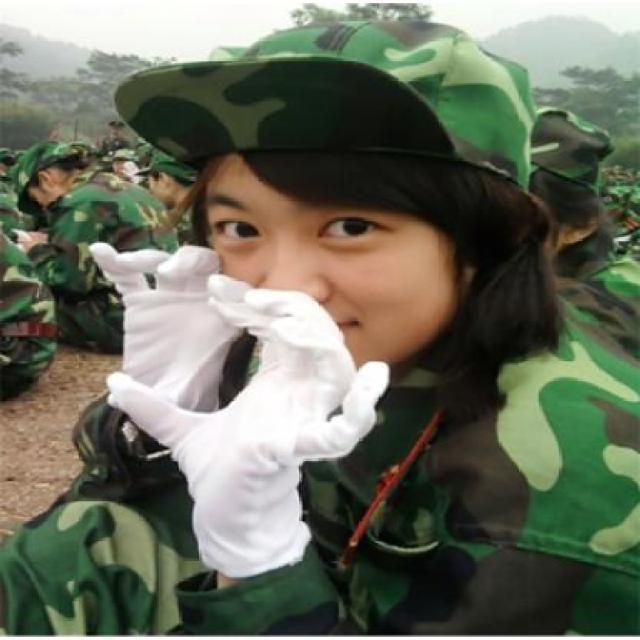face_nomask: (205, 165, 463, 360)
hand_glove: (106, 272, 385, 538), (86, 238, 254, 437)
head_nohelmet: (134, 13, 532, 175)
person: (0, 15, 614, 640)
